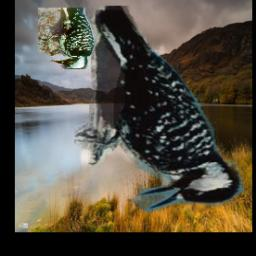Woodpecker: (74, 6, 249, 212), (37, 9, 94, 70)
